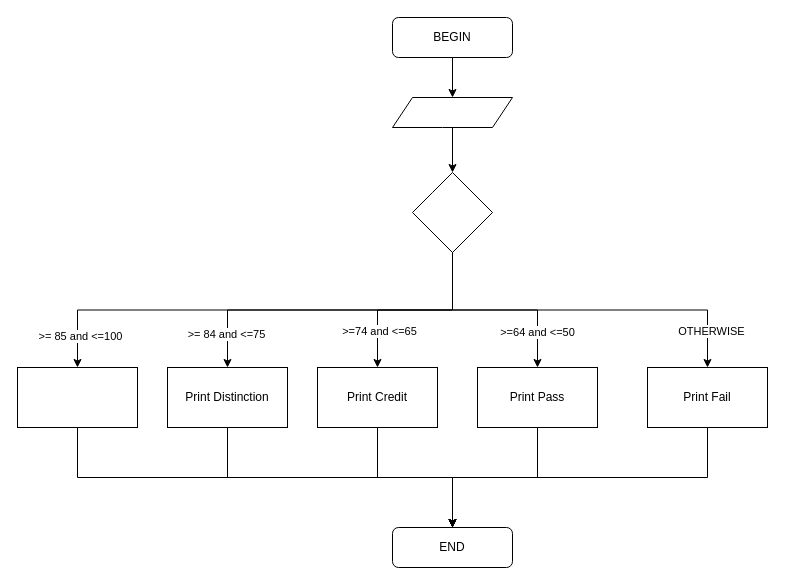
This 785x585 diagram has some shape labels left out. The shapes that lost their labels are listed below. From the top down, each one's centre as x and y in pixels, then its label:
At (x=452, y=112): "Get mark".
At (x=452, y=212): "Mark is".
At (x=77, y=397): "Print High Distinction".
